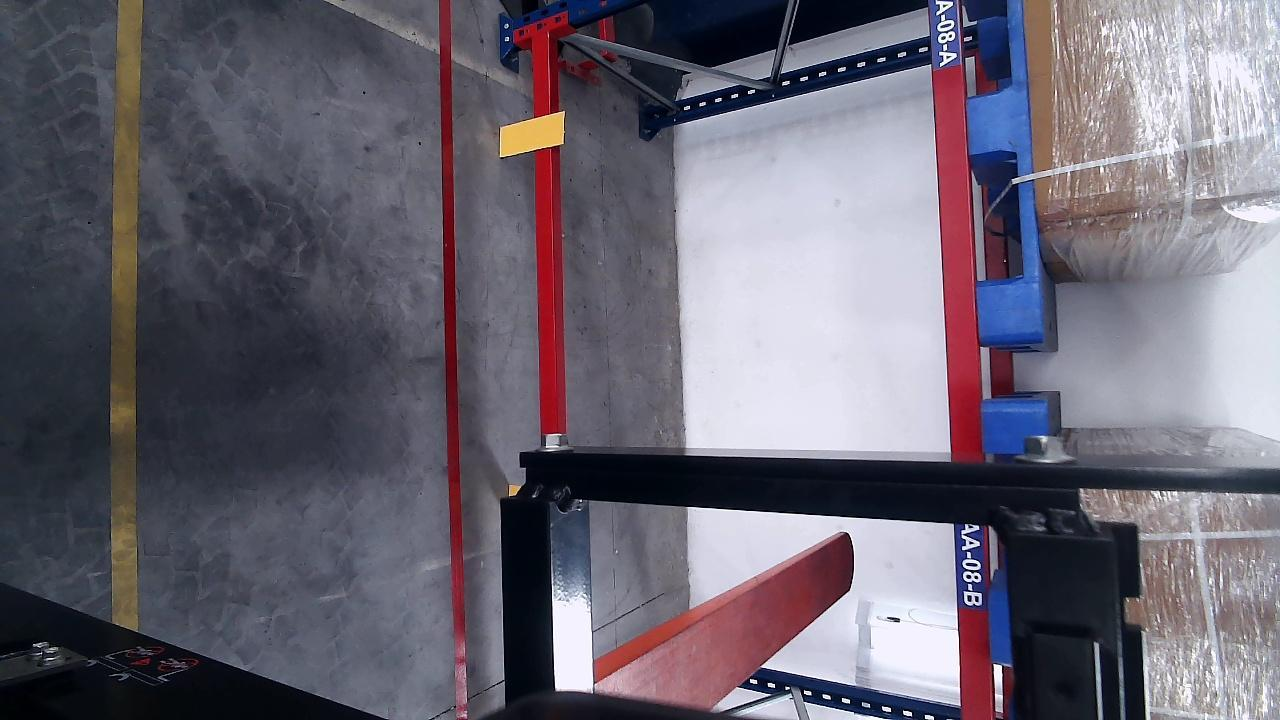h_rack: (929, 1, 983, 446), (529, 32, 564, 433), (952, 521, 996, 720)
orange_strip: (498, 112, 567, 156)
red_line: (438, 0, 472, 718)
yellow_line: (107, 1, 143, 628)
